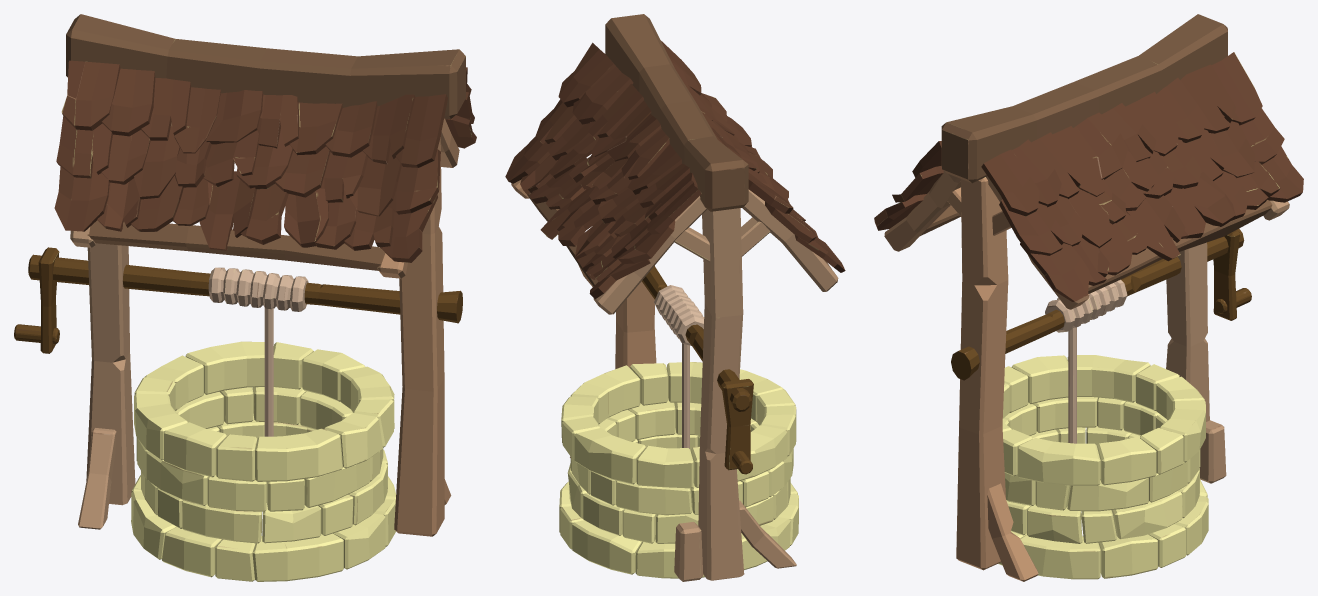
Rendered from DesertWell.fbx.
3 views of the same model, side by side, from view 1: azimuth 30°, elevation 25°; view 2: azimuth 150°, elevation 25°; view 3: azimuth 270°, elevation 25° (orthographic). The views are drawn at different scales.
Parts seen in each view (by area): view 1: Cube; view 2: Cube; view 3: Cube.
Part boxes in pixels (x1,y1,x2,y2): Cube: (14,14,476,581); Cube: (505,14,845,581); Cube: (874,14,1303,581).
Size of the model in its own units: 794 by 950 by 810.
